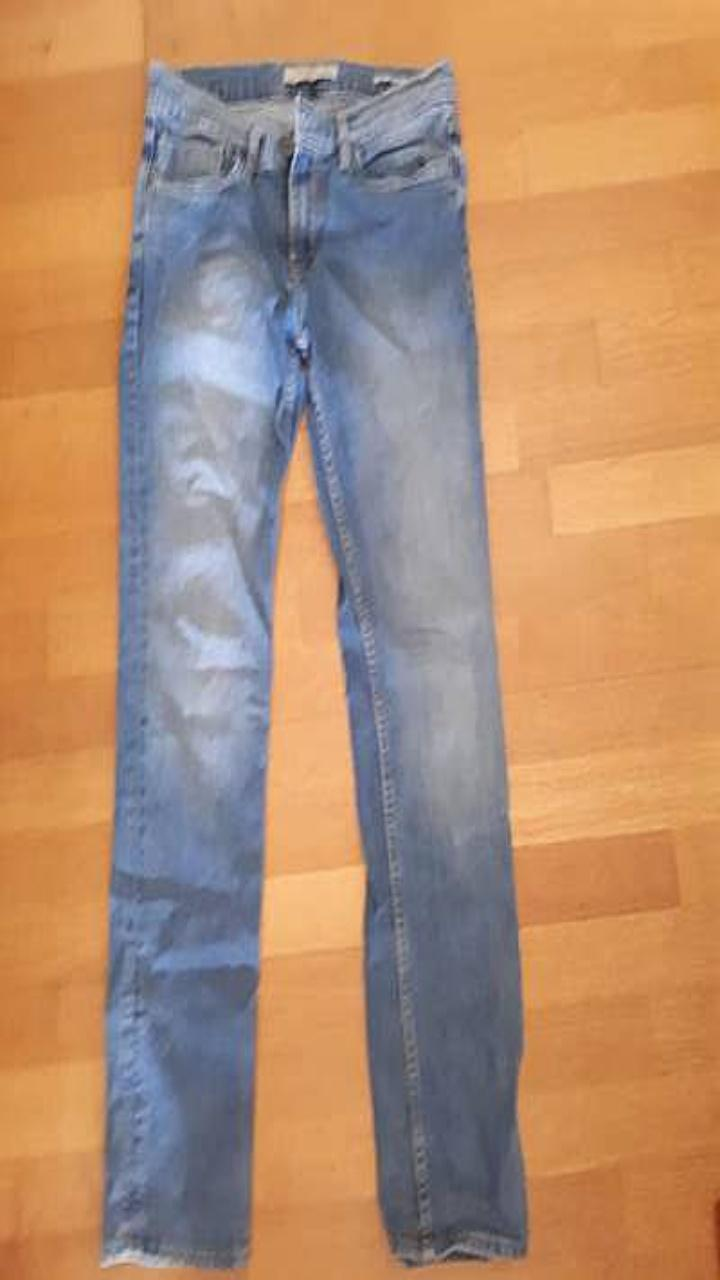Jeans: (102, 61, 526, 1267)
